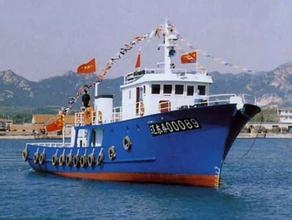otherboat: (19, 22, 256, 184)
